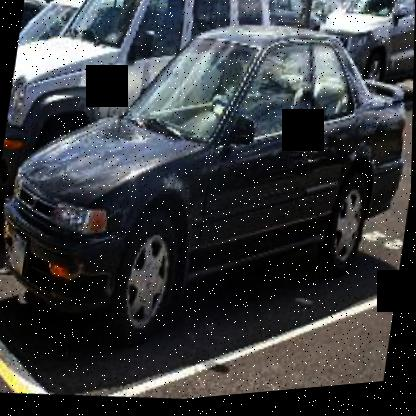not_emergency: (0, 0, 414, 386)
